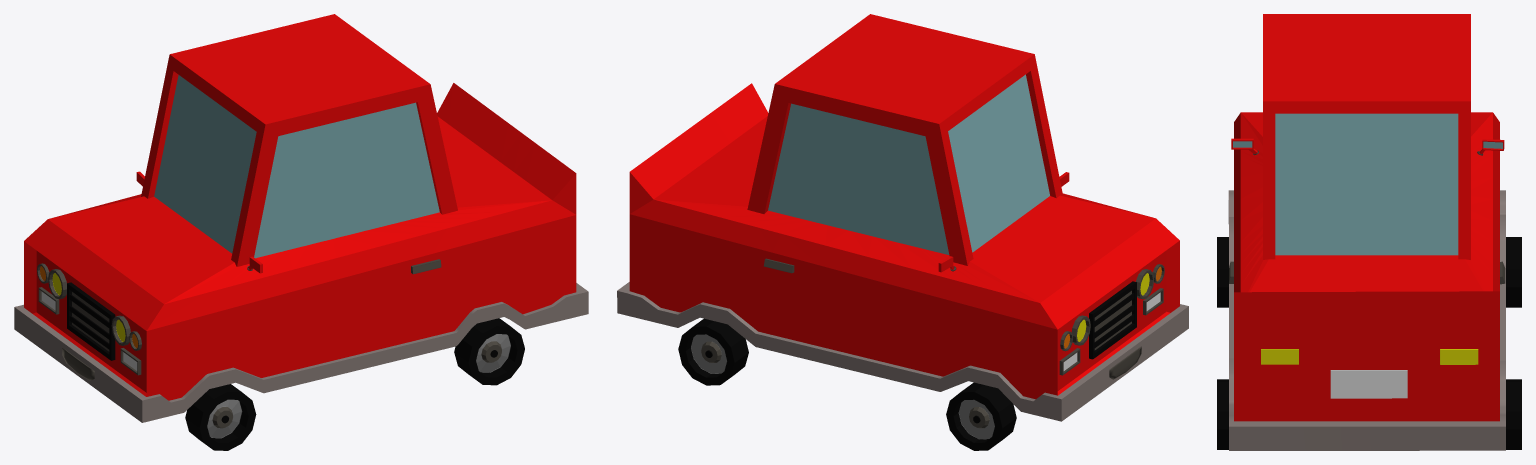
Rendered from carro.fbx.
3 views of the same model, side by side, from view 1: azimuth 30°, elevation 25°; view 2: azimuth 150°, elevation 25°; view 3: azimuth 270°, elevation 25° (orthographic). The views are drawn at different scales.
Parts seen in each view (by area): view 1: pCube1, pCube2, pCube4, pCylinder10, pCylinder9, pCube3; view 2: pCube1, pCube2, pCube4, pCylinder11, pCylinder12, pCube3; view 3: pCube2, pCube1, pCube4, pCube19, pCylinder11, pCylinder12, pCylinder9, pCylinder10, pCube10, pCube11.
Part boxes in pixels (x1,y1,x2,y2): pCube1: (24, 83, 576, 400); pCube2: (141, 14, 457, 266); pCube4: (14, 283, 588, 422); pCylinder10: (454, 318, 524, 385); pCylinder9: (185, 384, 256, 450); pCube3: (67, 282, 115, 360); pCube1: (629, 83, 1179, 399); pCube2: (747, 14, 1062, 265); pCube4: (617, 282, 1188, 421); pCylinder11: (946, 382, 1016, 450); pCylinder12: (678, 318, 748, 385); pCube3: (1089, 281, 1136, 359); pCube2: (1263, 14, 1470, 259); pCube1: (1234, 112, 1499, 421); pCube4: (1228, 190, 1505, 450); pCube19: (1330, 370, 1407, 398); pCylinder11: (1506, 237, 1521, 307); pCylinder12: (1506, 379, 1521, 449); pCylinder9: (1217, 237, 1228, 307); pCylinder10: (1217, 379, 1228, 449); pCube10: (1440, 349, 1478, 364); pCube11: (1261, 349, 1298, 364).
Size of the model in its own units: 15.79 by 10 by 8.6.
